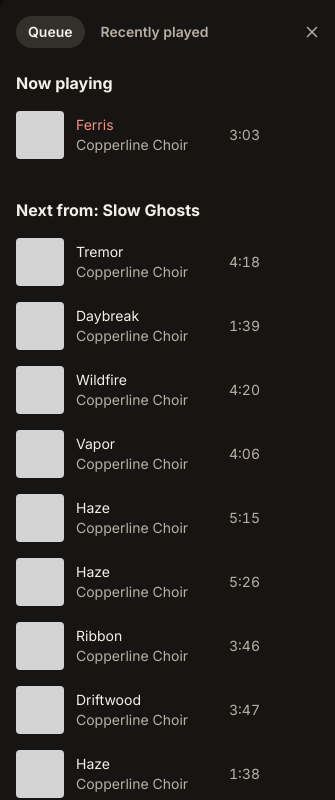
Test: queue panel › Recently played says so when there's nothing, including when the log can't be read
What coordinates should you click on to do the following:
click the tab "Recently played"
I would click on:
 (154, 32)
Its box is [88,16,220,48].
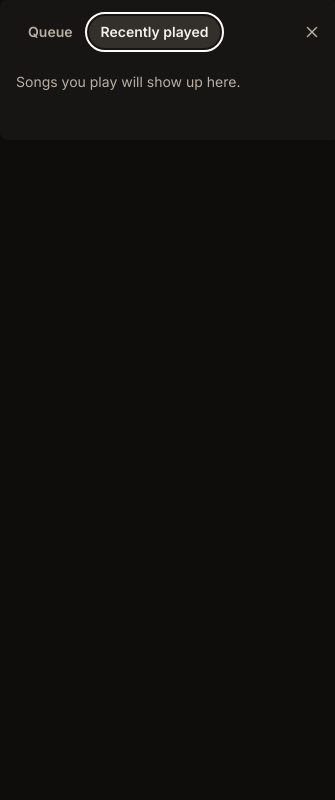
Check: the text "Songs you play will show up here." is shown, box [16,73,240,90]
